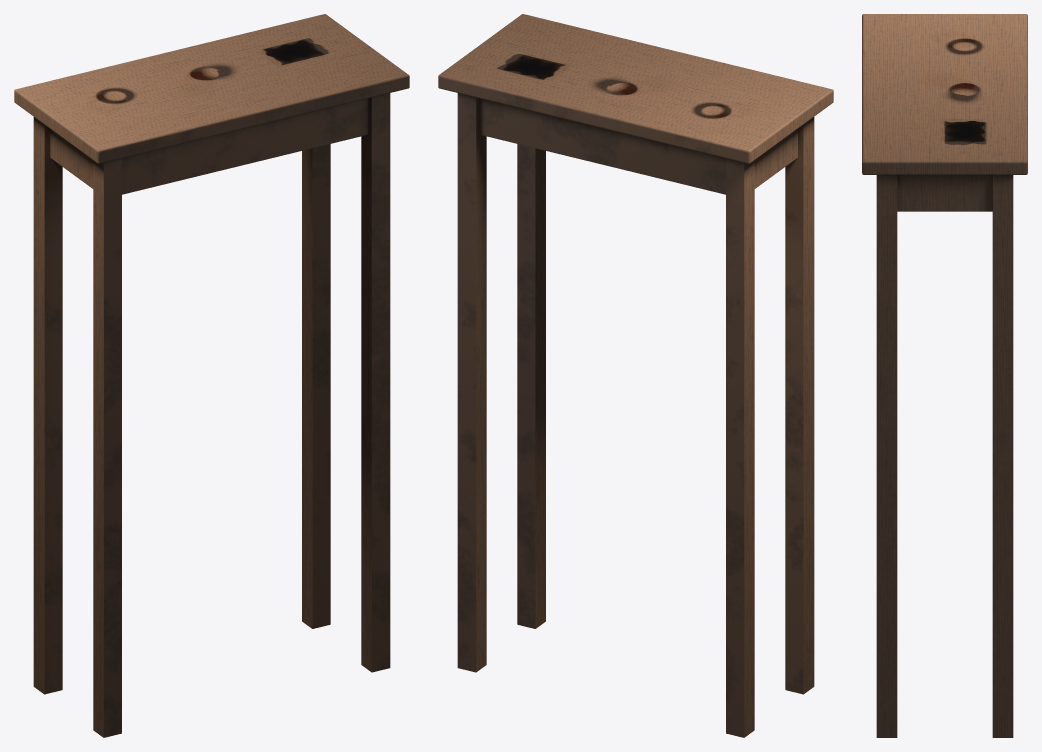
The model's file is 410_hook.glb.
3 views of the same model, side by side, from view 1: azimuth 30°, elevation 25°; view 2: azimuth 150°, elevation 25°; view 3: azimuth 270°, elevation 25° (orthographic). The views are drawn at different scales.
Visible parts, largest first — view 1: Table; view 2: Table; view 3: Table.
Part boxes in pixels (bbox=[...]): Table: bbox=[14, 14, 409, 737]; Table: bbox=[438, 14, 833, 737]; Table: bbox=[862, 14, 1027, 737].
Size of what is drawn, in the model's own units: 1.7 by 3.1 by 0.8.
1 material, 1 textured.
